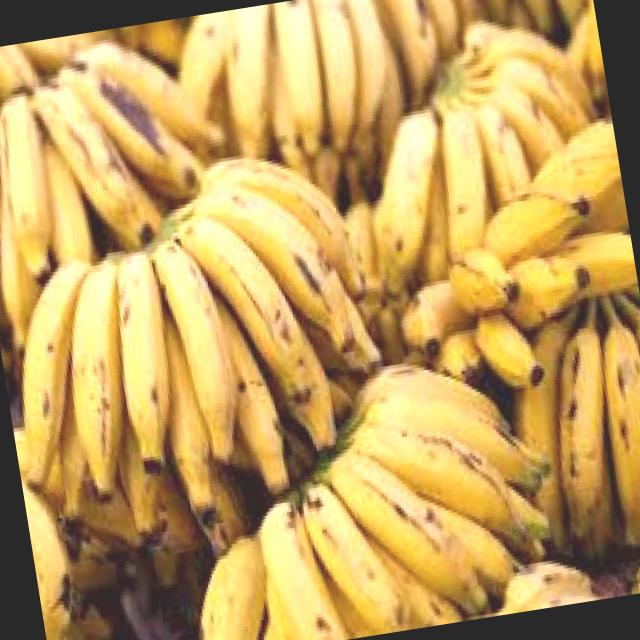Banana: (0, 135, 405, 578), (153, 340, 568, 640), (341, 5, 623, 290), (0, 28, 240, 332), (495, 284, 640, 567)
